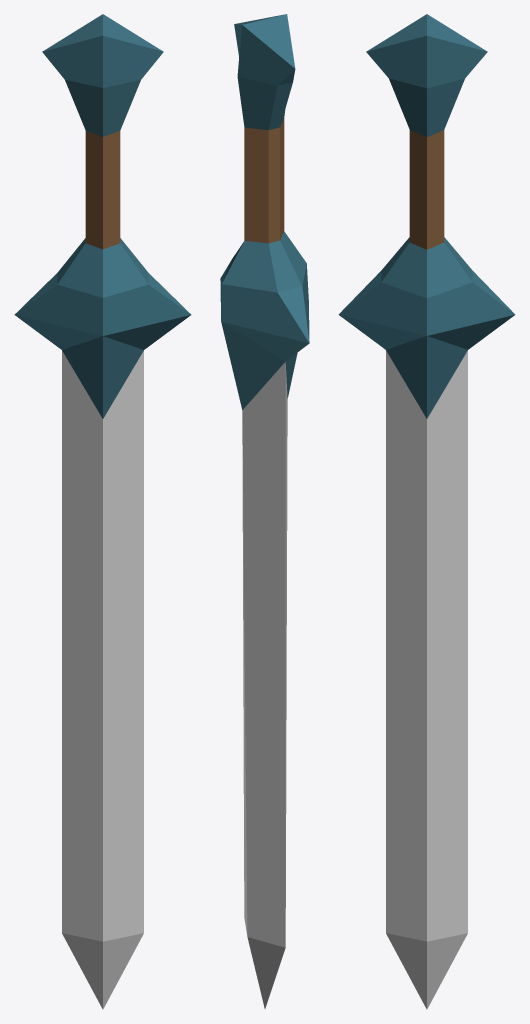
File: Sword.glb
The picture shows the model from 3 angles, left to right: view 1: azimuth 90°, elevation 25°; view 2: azimuth 210°, elevation 25°; view 3: azimuth 270°, elevation 25°; orthographic projection.
Parts seen in each view (by area): view 1: Blade, Pommel, Sword; view 2: Blade, Pommel, Sword; view 3: Blade, Pommel, Sword.
Part boxes in pixels (x1=…): Blade: x1=62, y1=351, x2=143, y2=1009; Pommel: x1=14, y1=14, x2=191, y2=418; Sword: x1=85, y1=131, x2=120, y2=249; Blade: x1=242, y1=362, x2=287, y2=1008; Pommel: x1=220, y1=14, x2=309, y2=409; Sword: x1=244, y1=118, x2=284, y2=243; Blade: x1=386, y1=350, x2=467, y2=1009; Pommel: x1=338, y1=14, x2=515, y2=418; Sword: x1=409, y1=130, x2=444, y2=249.
Size of the model in its own units: 0.2303 by 2.49 by 0.405.
